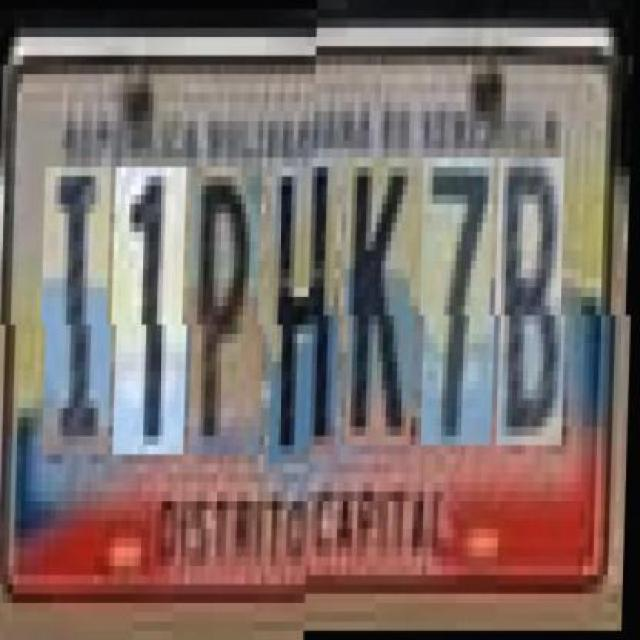1: (116, 167, 193, 455)
7: (423, 167, 500, 455)
b: (498, 167, 571, 455)
h: (271, 167, 344, 464)
i: (45, 167, 117, 455)
k: (348, 167, 420, 455)
p: (192, 167, 268, 455)
